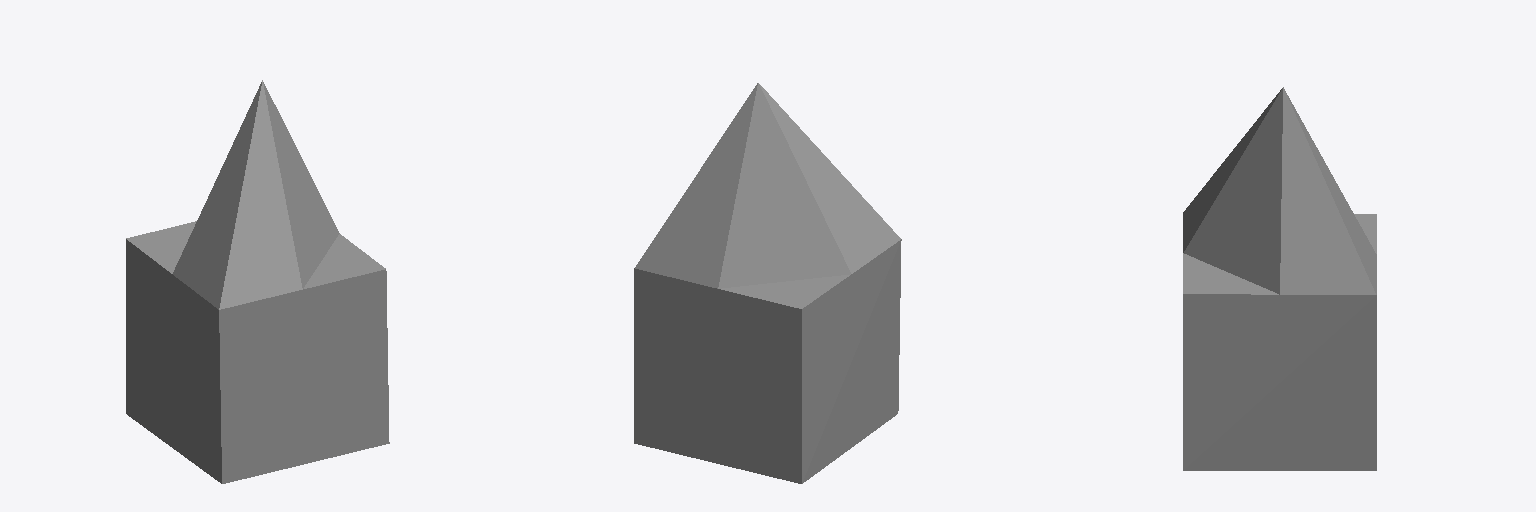
The model's file is projectile.obj.
The picture shows the model from 3 angles: view 1: azimuth 30°, elevation 25°; view 2: azimuth 150°, elevation 25°; view 3: azimuth 270°, elevation 25°; orthographic projection.
Visible parts, largest first — view 1: projectile; view 2: projectile; view 3: projectile.
Boxes of the visible parts, box(x1,y1,x2,y2) form: projectile: box(126, 80, 389, 483); projectile: box(634, 83, 901, 483); projectile: box(1183, 87, 1376, 470).
Bounding box in the file's own units: 0.4002 × 0.7766 × 0.393.